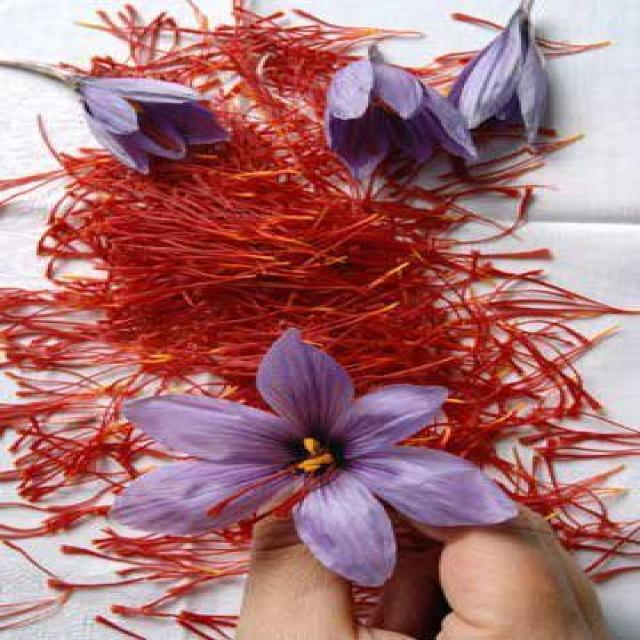Flower: (111, 330, 518, 584)
stigma: (204, 466, 298, 522)
